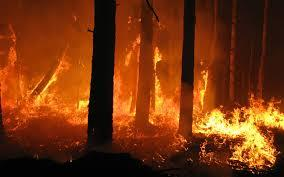fire: (0, 18, 87, 130), (113, 19, 186, 147), (193, 68, 282, 172)
